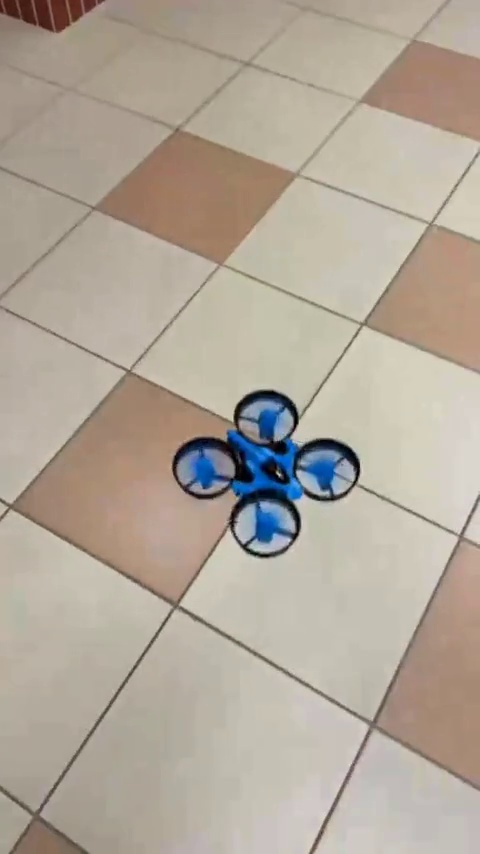drone: (167, 393, 364, 560)
